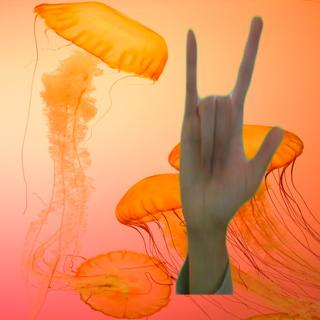ILY: (176, 14, 286, 241)
